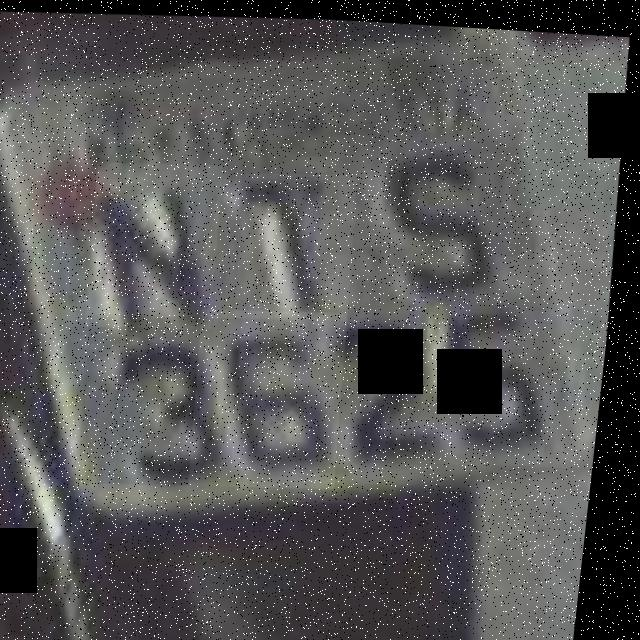2: (299, 302, 472, 475)
3: (82, 307, 255, 488)
5: (421, 297, 572, 463)
6: (193, 301, 360, 489)
N: (86, 156, 232, 330)
S: (380, 139, 525, 309)
T: (236, 165, 366, 320)
